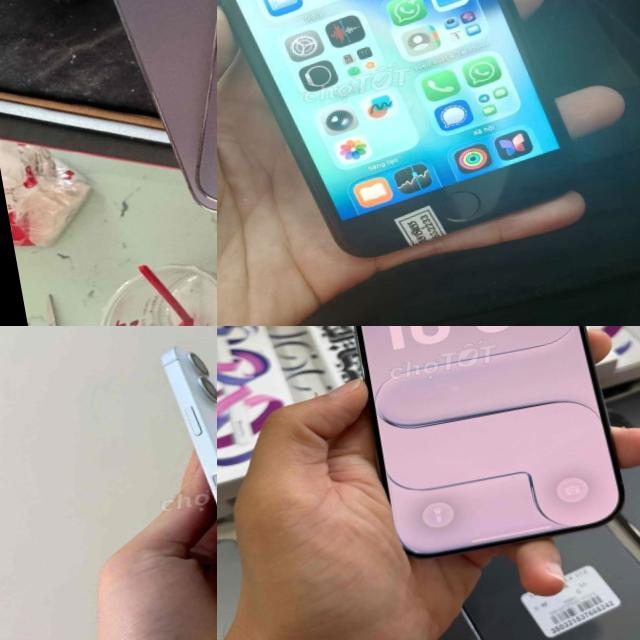gen_14: (130, 0, 217, 240)
gen_16: (147, 326, 217, 640)
gen_17: (323, 326, 636, 570)
gen_7_8: (217, 0, 603, 285)
